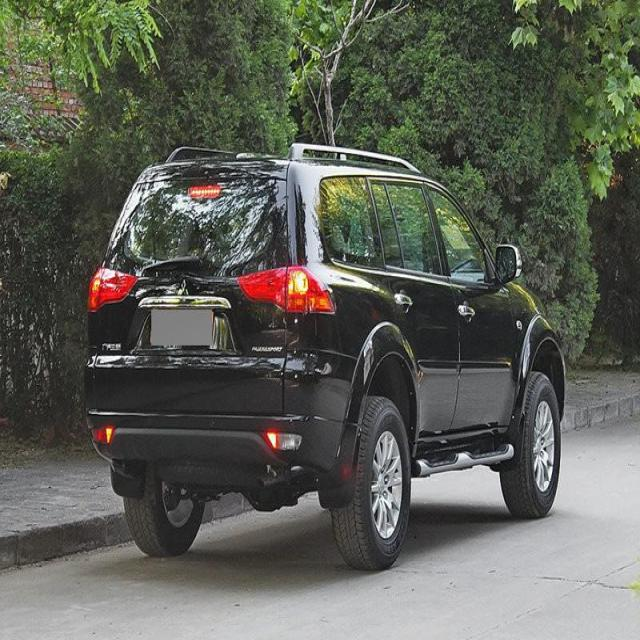back_glass: (103, 166, 294, 270)
back_left_side_light: (82, 264, 140, 314)
back_right_side_light: (234, 262, 338, 319)
door: (366, 177, 462, 443)
front_right_side_door: (422, 180, 520, 442)
front_right_side_mirror: (494, 242, 526, 289)
rear_bumper: (81, 338, 361, 477)
wheel: (326, 398, 412, 570), (500, 375, 562, 517), (120, 467, 206, 560)
